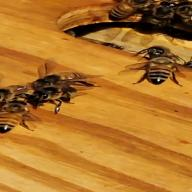Bee: (23, 67, 107, 108), (134, 44, 180, 89), (0, 101, 45, 134)
